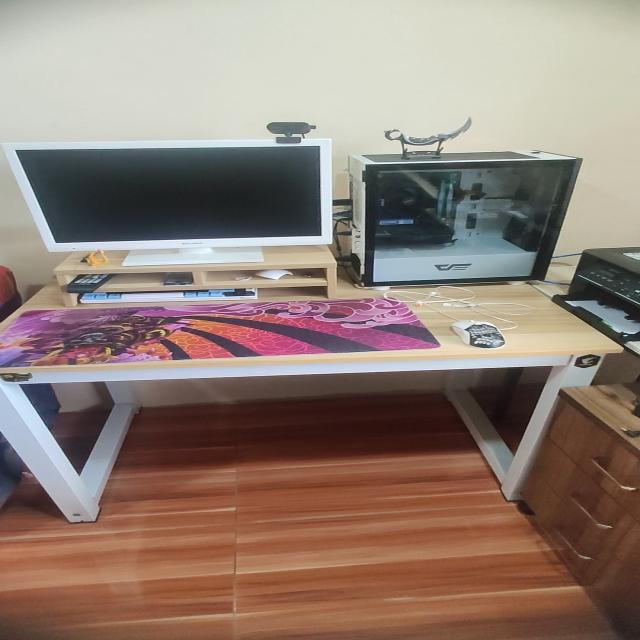table: (0, 274, 624, 526)
